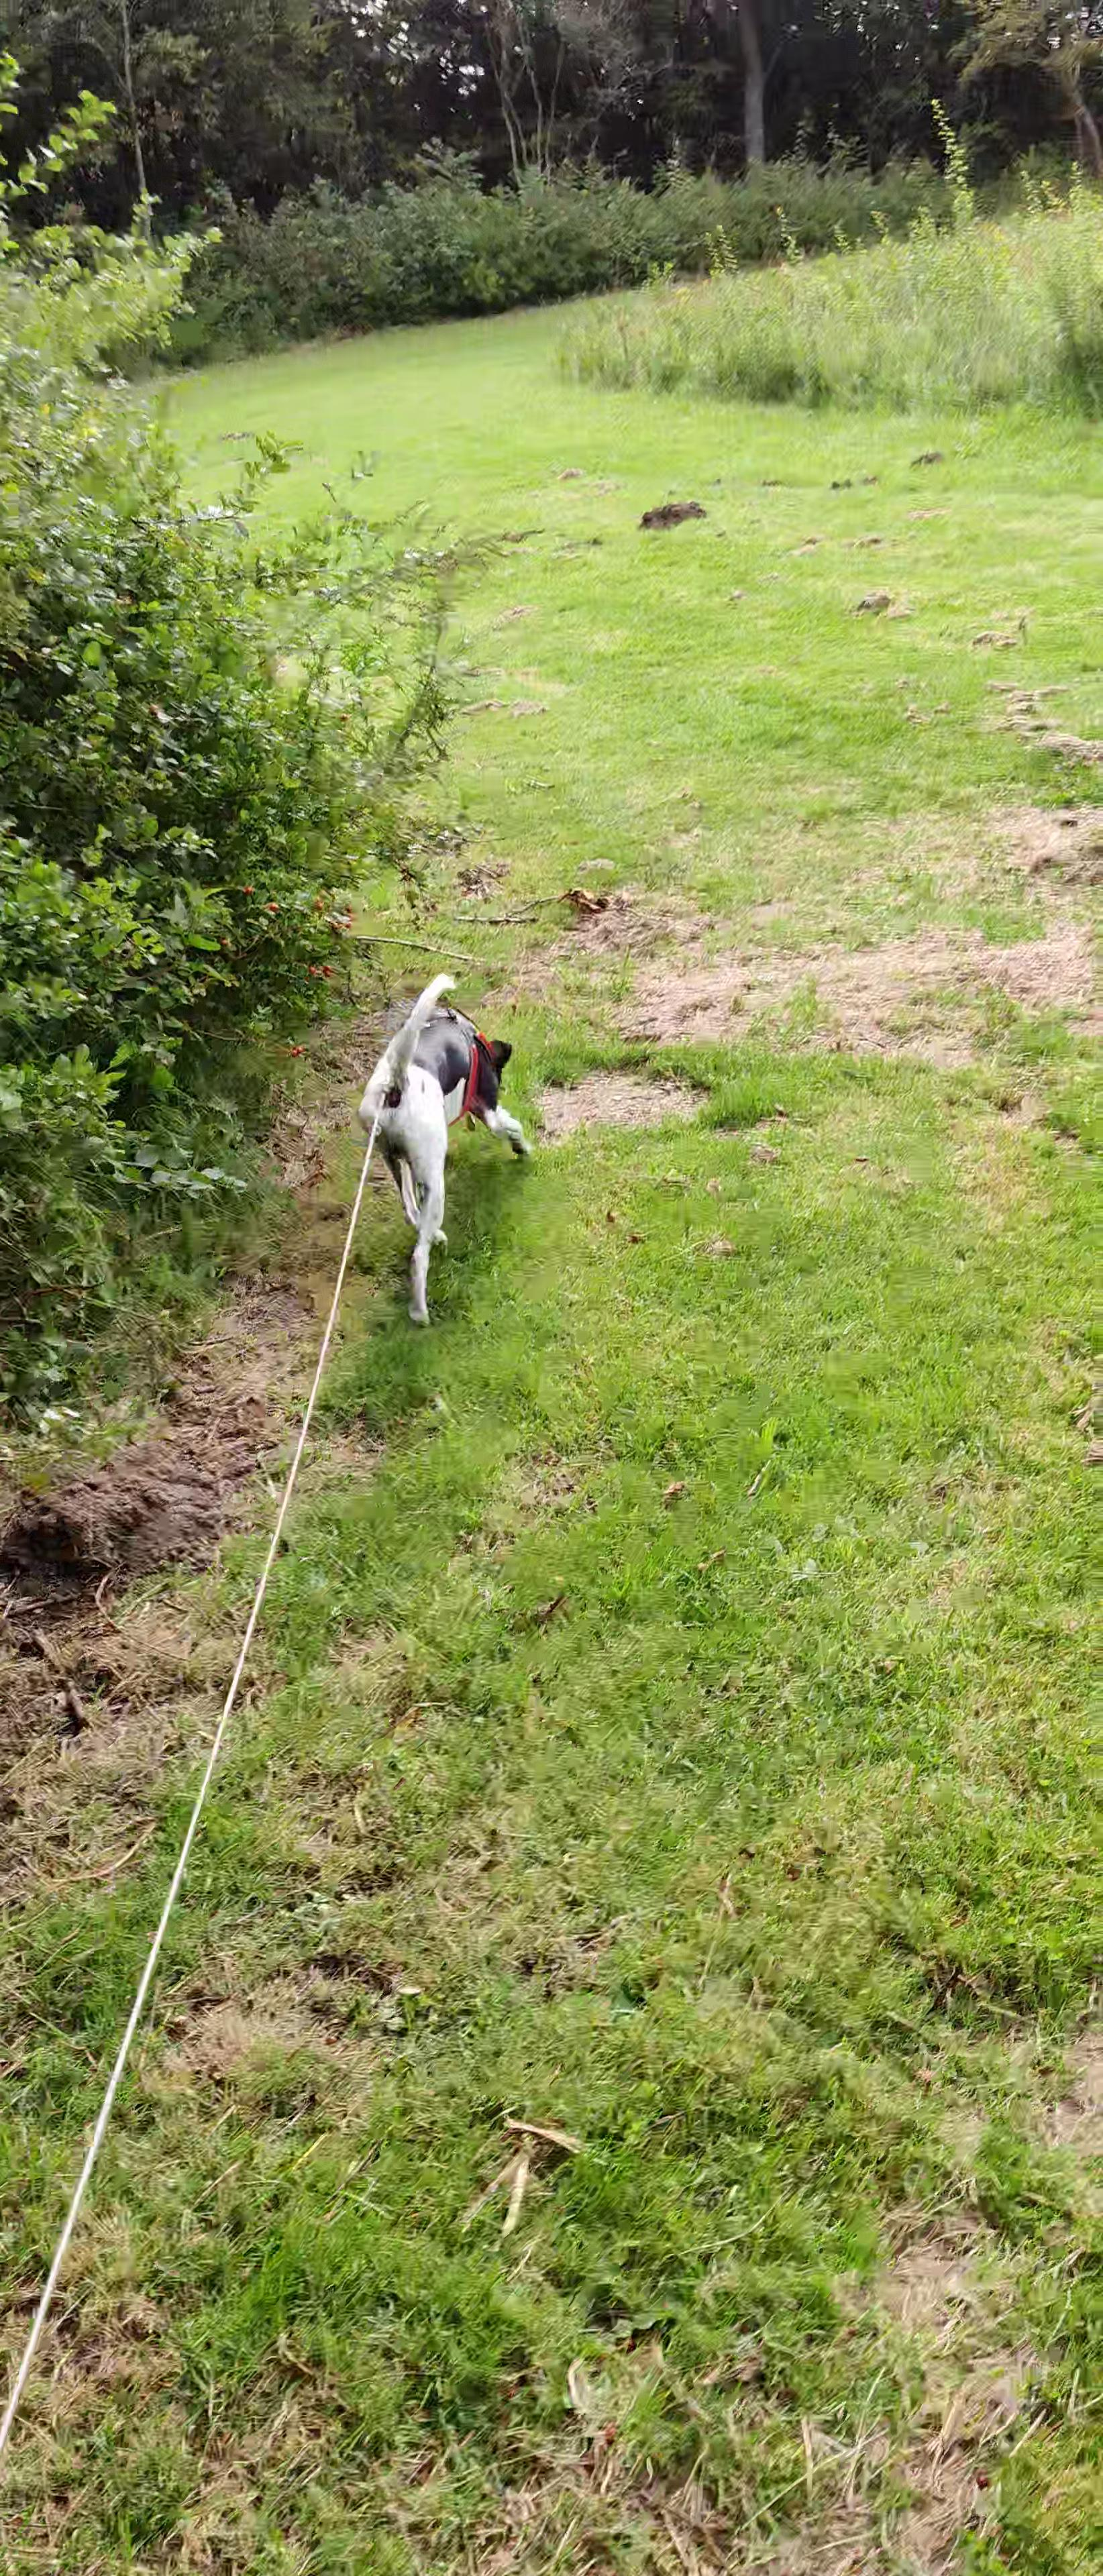Dog: (347, 964, 538, 1329)
